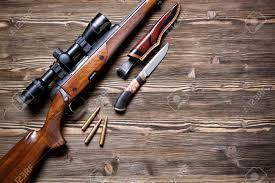Gun: (0, 0, 164, 183)
Knife: (113, 40, 169, 116)
